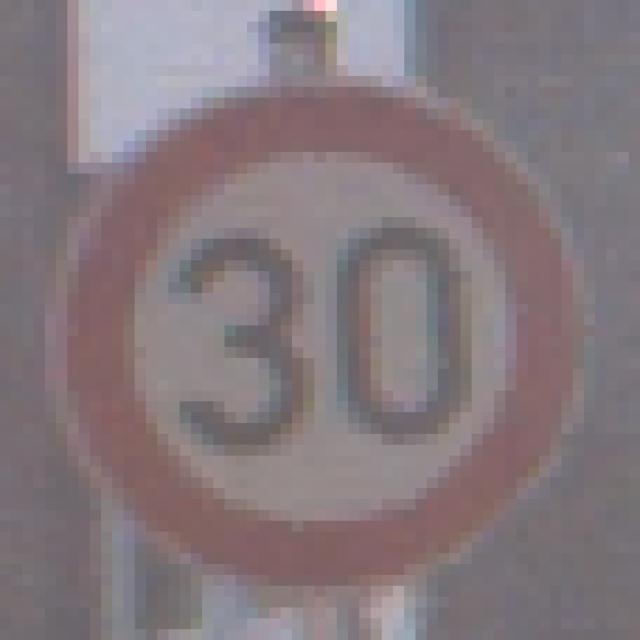Speed Limit -30-: (51, 54, 578, 564)
